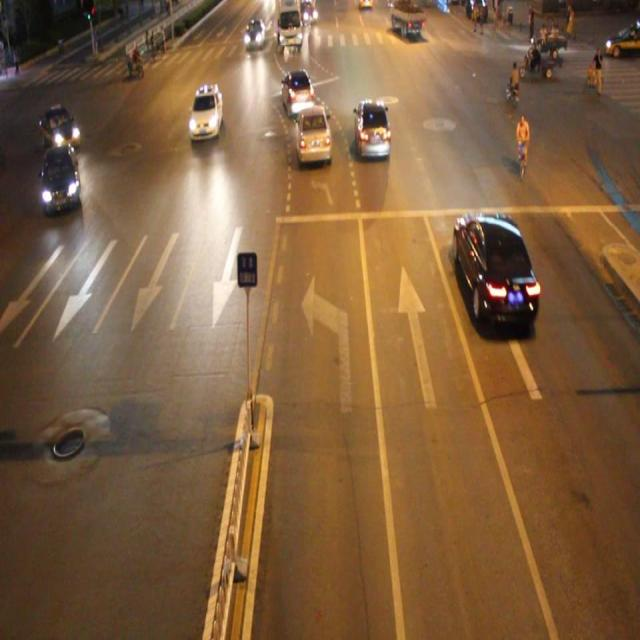car: (454, 210, 538, 334), (41, 145, 83, 215), (354, 97, 392, 163), (295, 104, 334, 164), (187, 84, 223, 139), (40, 105, 80, 153), (280, 67, 316, 119)
